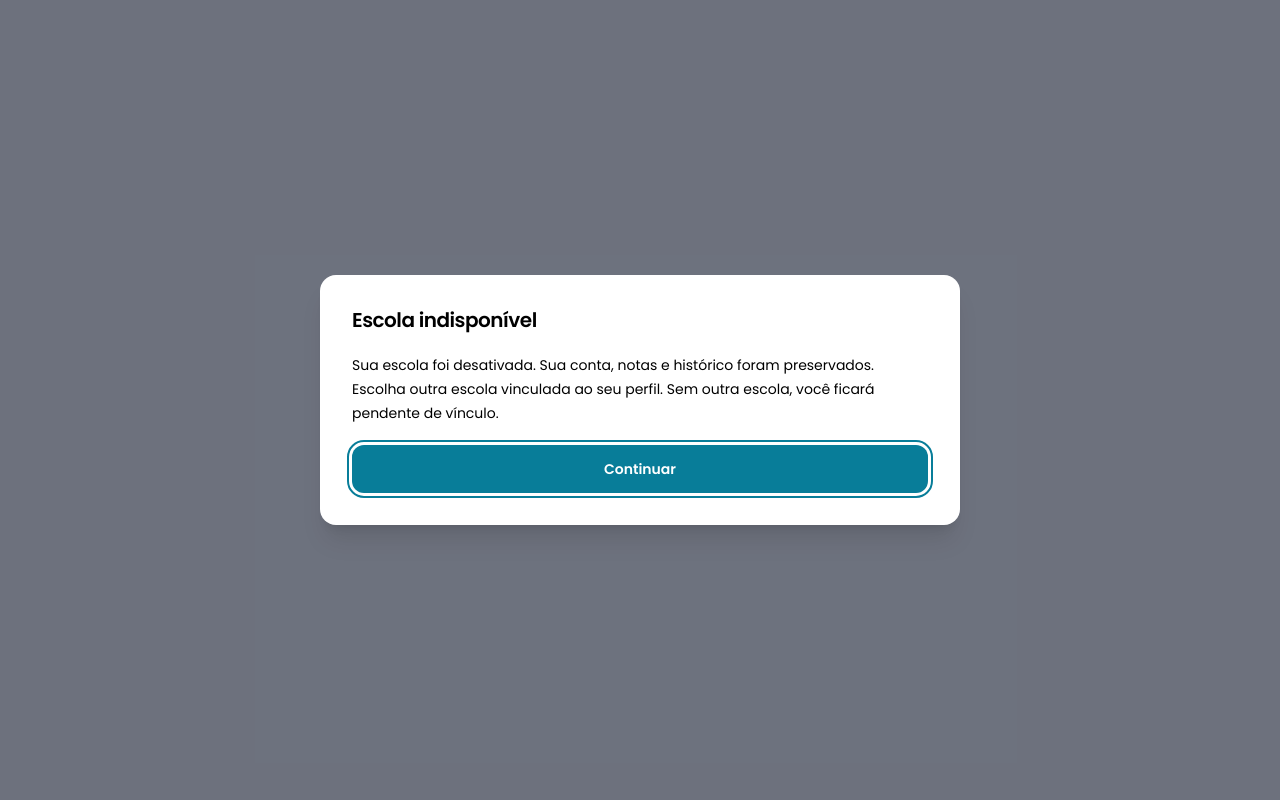
Scenario: professor pode abrir outra escola após confirmar o aviso
Later steps or results of the test are not shown.
Click the button "Continuar" at (640, 469), box [352,445,928,493]
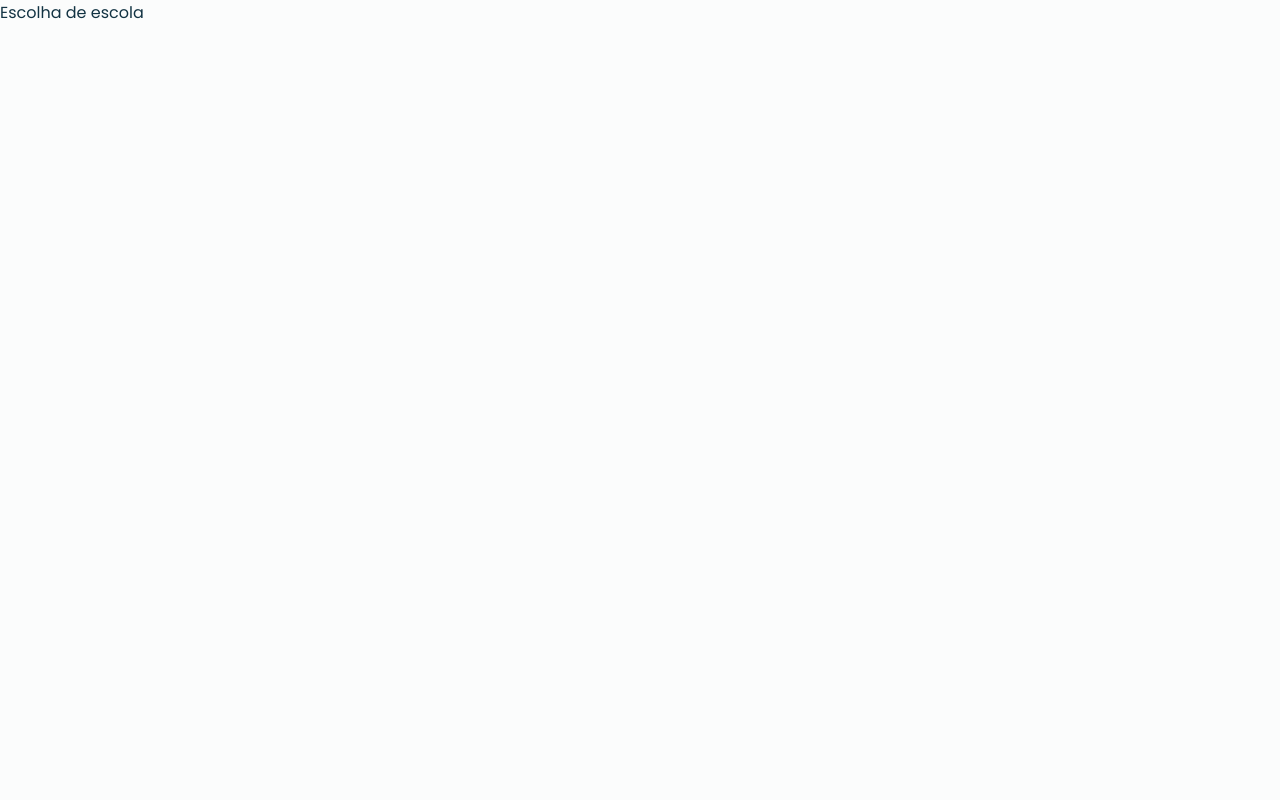
Check: the text "Escolha de escola" is shown, box [0,1,144,24]
